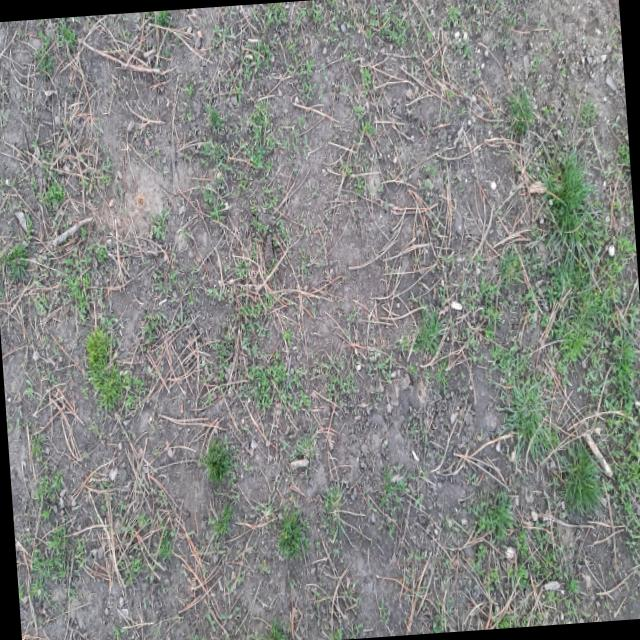grass: (458, 158, 640, 561)
